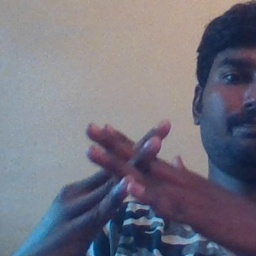W: (66, 106, 201, 246)
